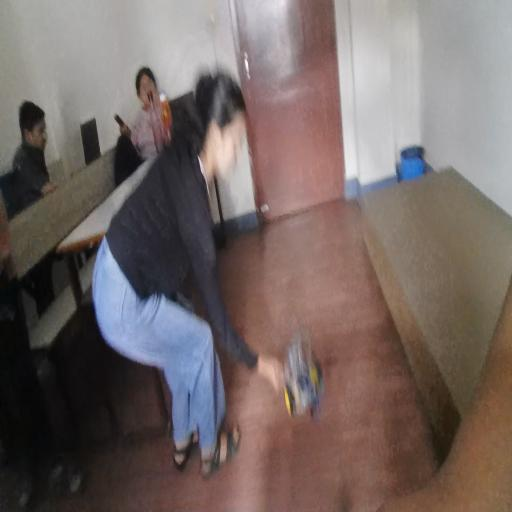car: (272, 340, 311, 394)
